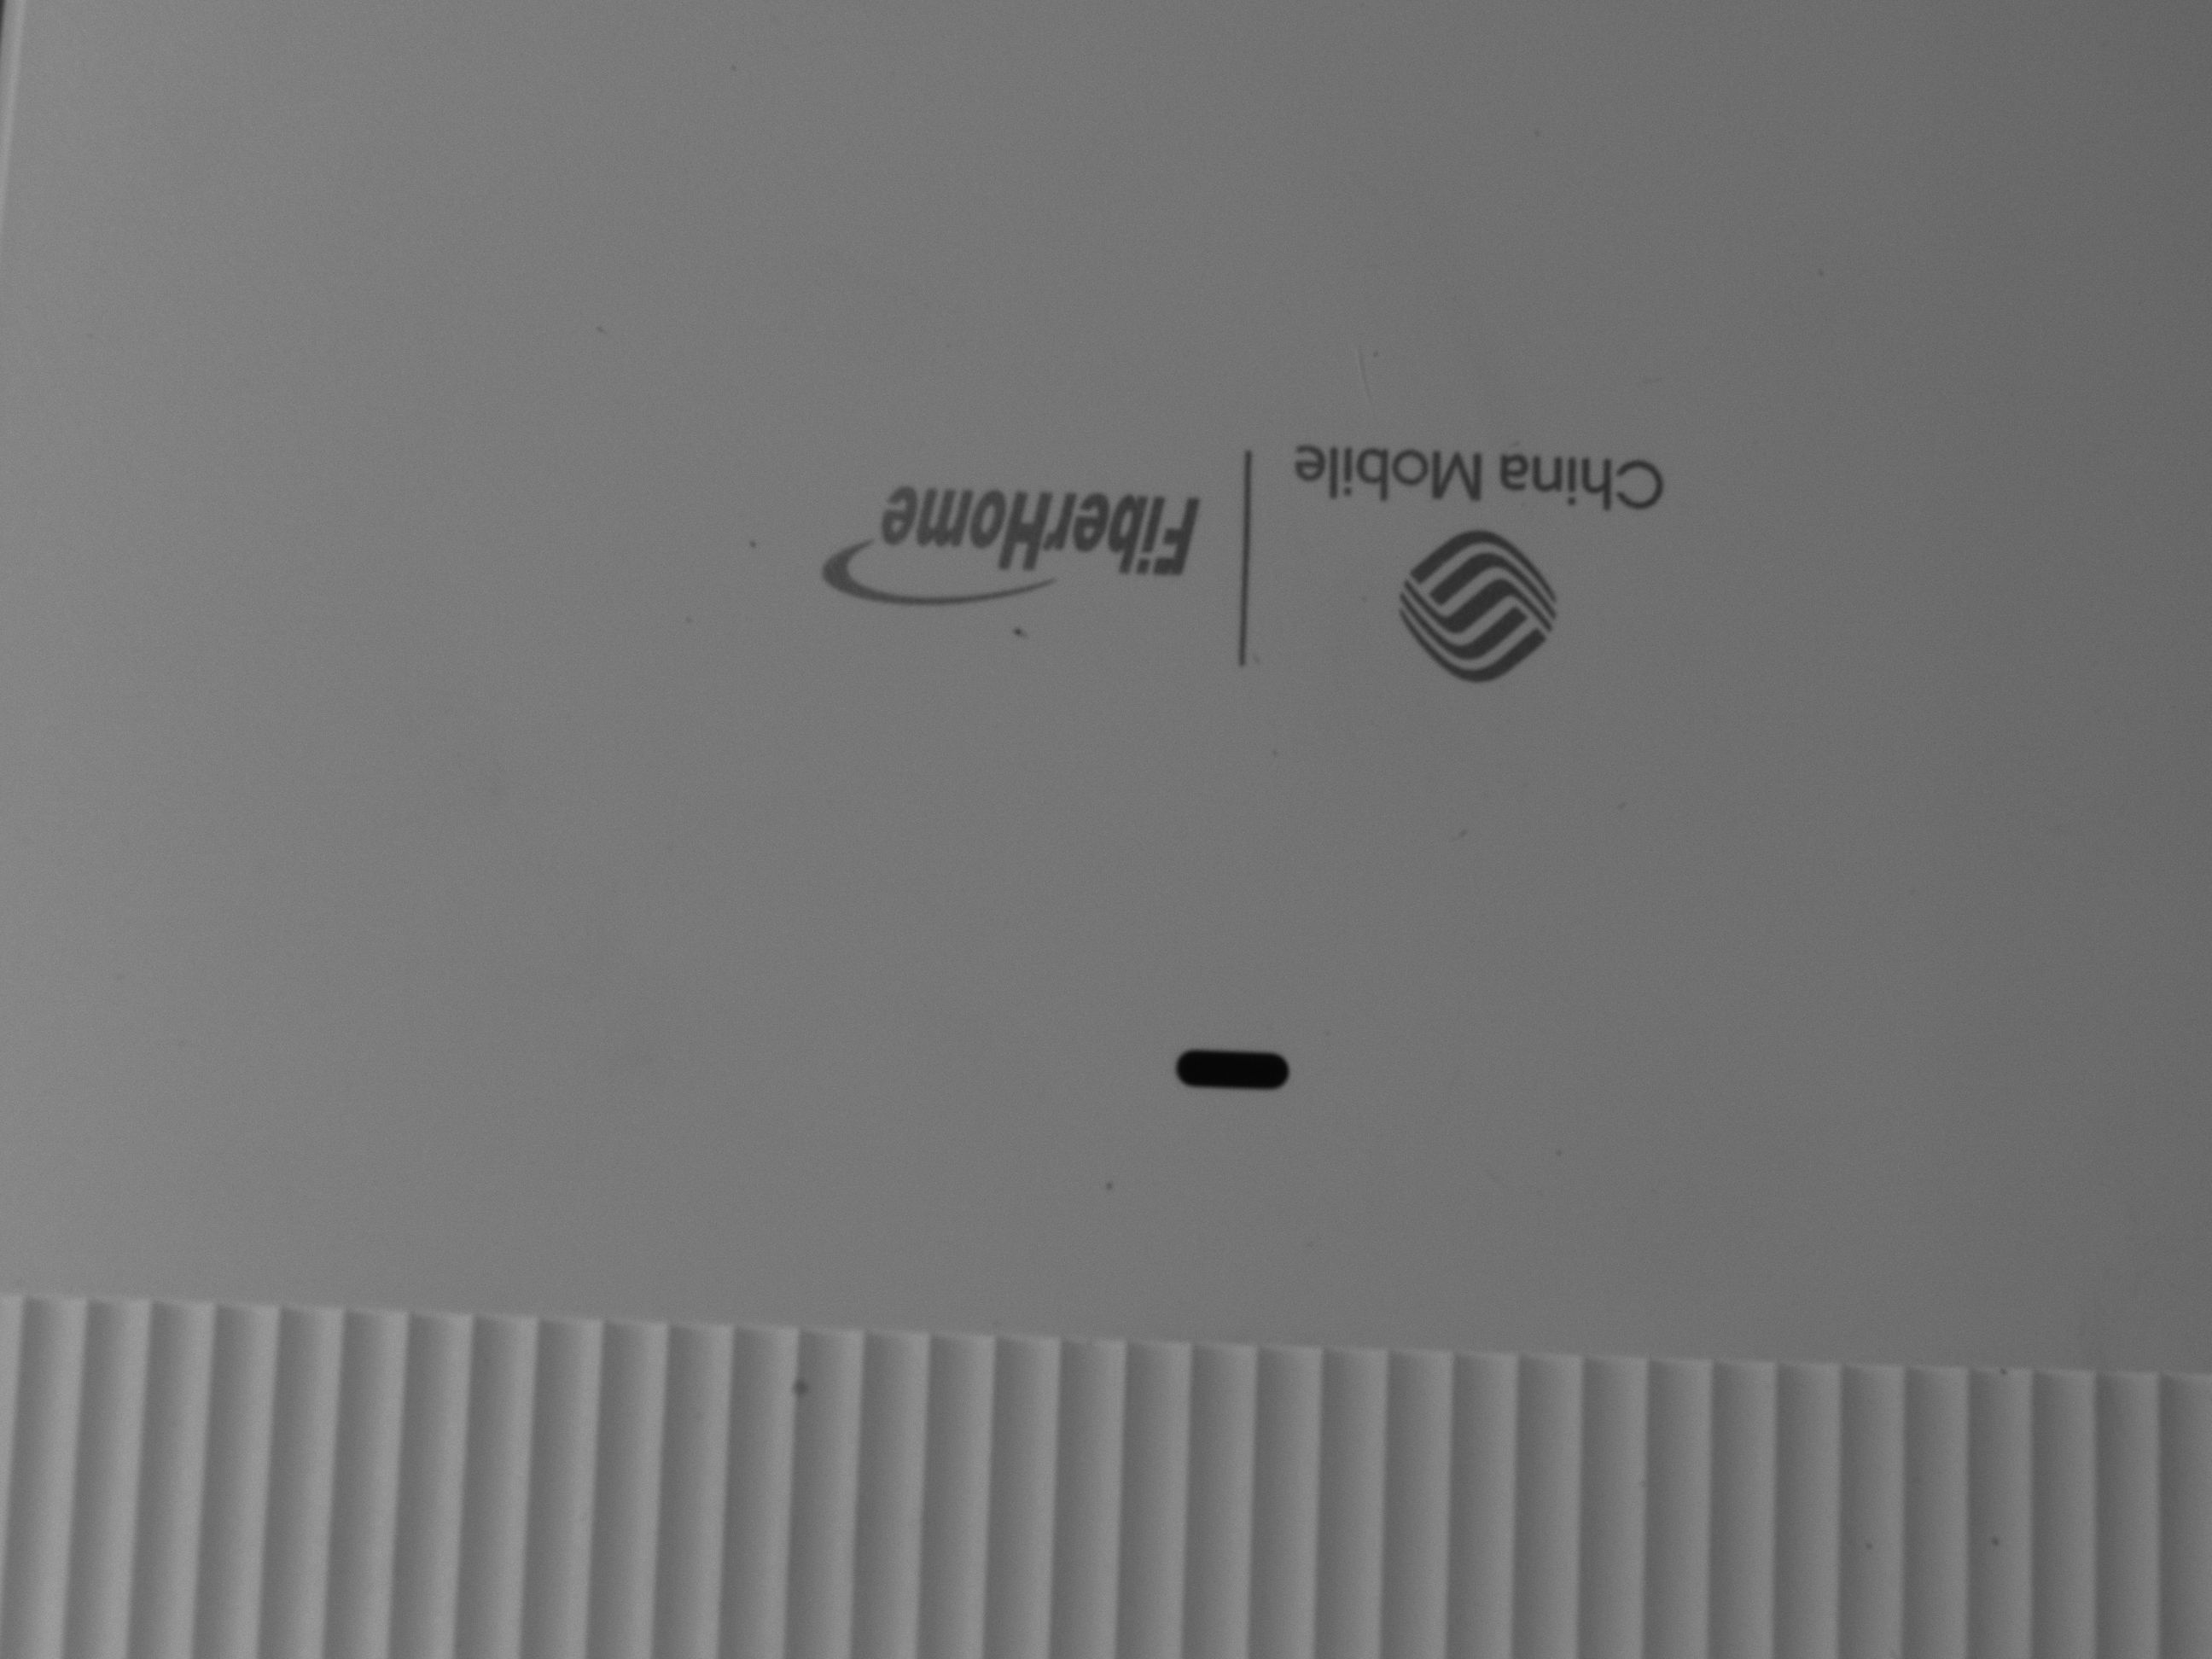BX_HG6371FMobileFiberhome: (799, 380, 1696, 694)
